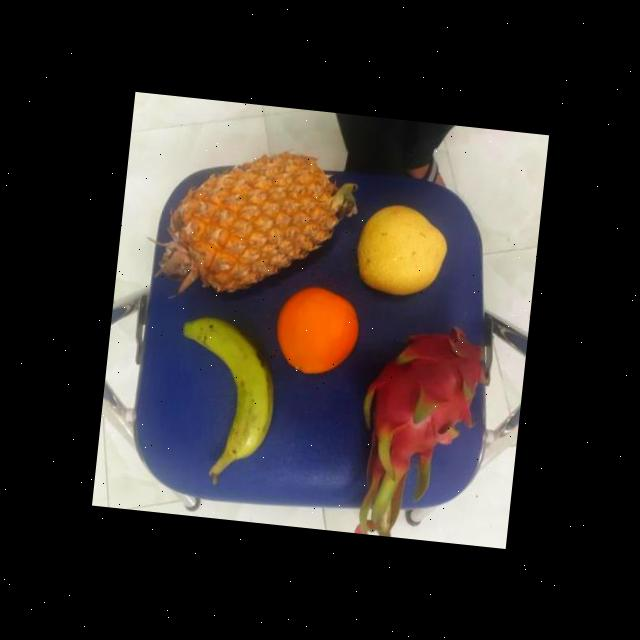banana: (164, 314, 280, 474)
orange: (270, 284, 364, 378)
pear: (348, 198, 453, 300)
pineapple: (146, 136, 348, 304)
pitaya: (348, 318, 494, 506)
